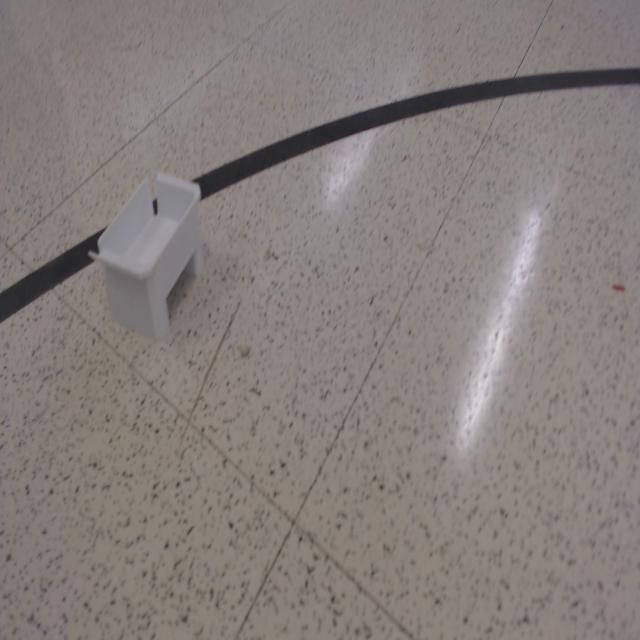wbox: (87, 168, 206, 342)
